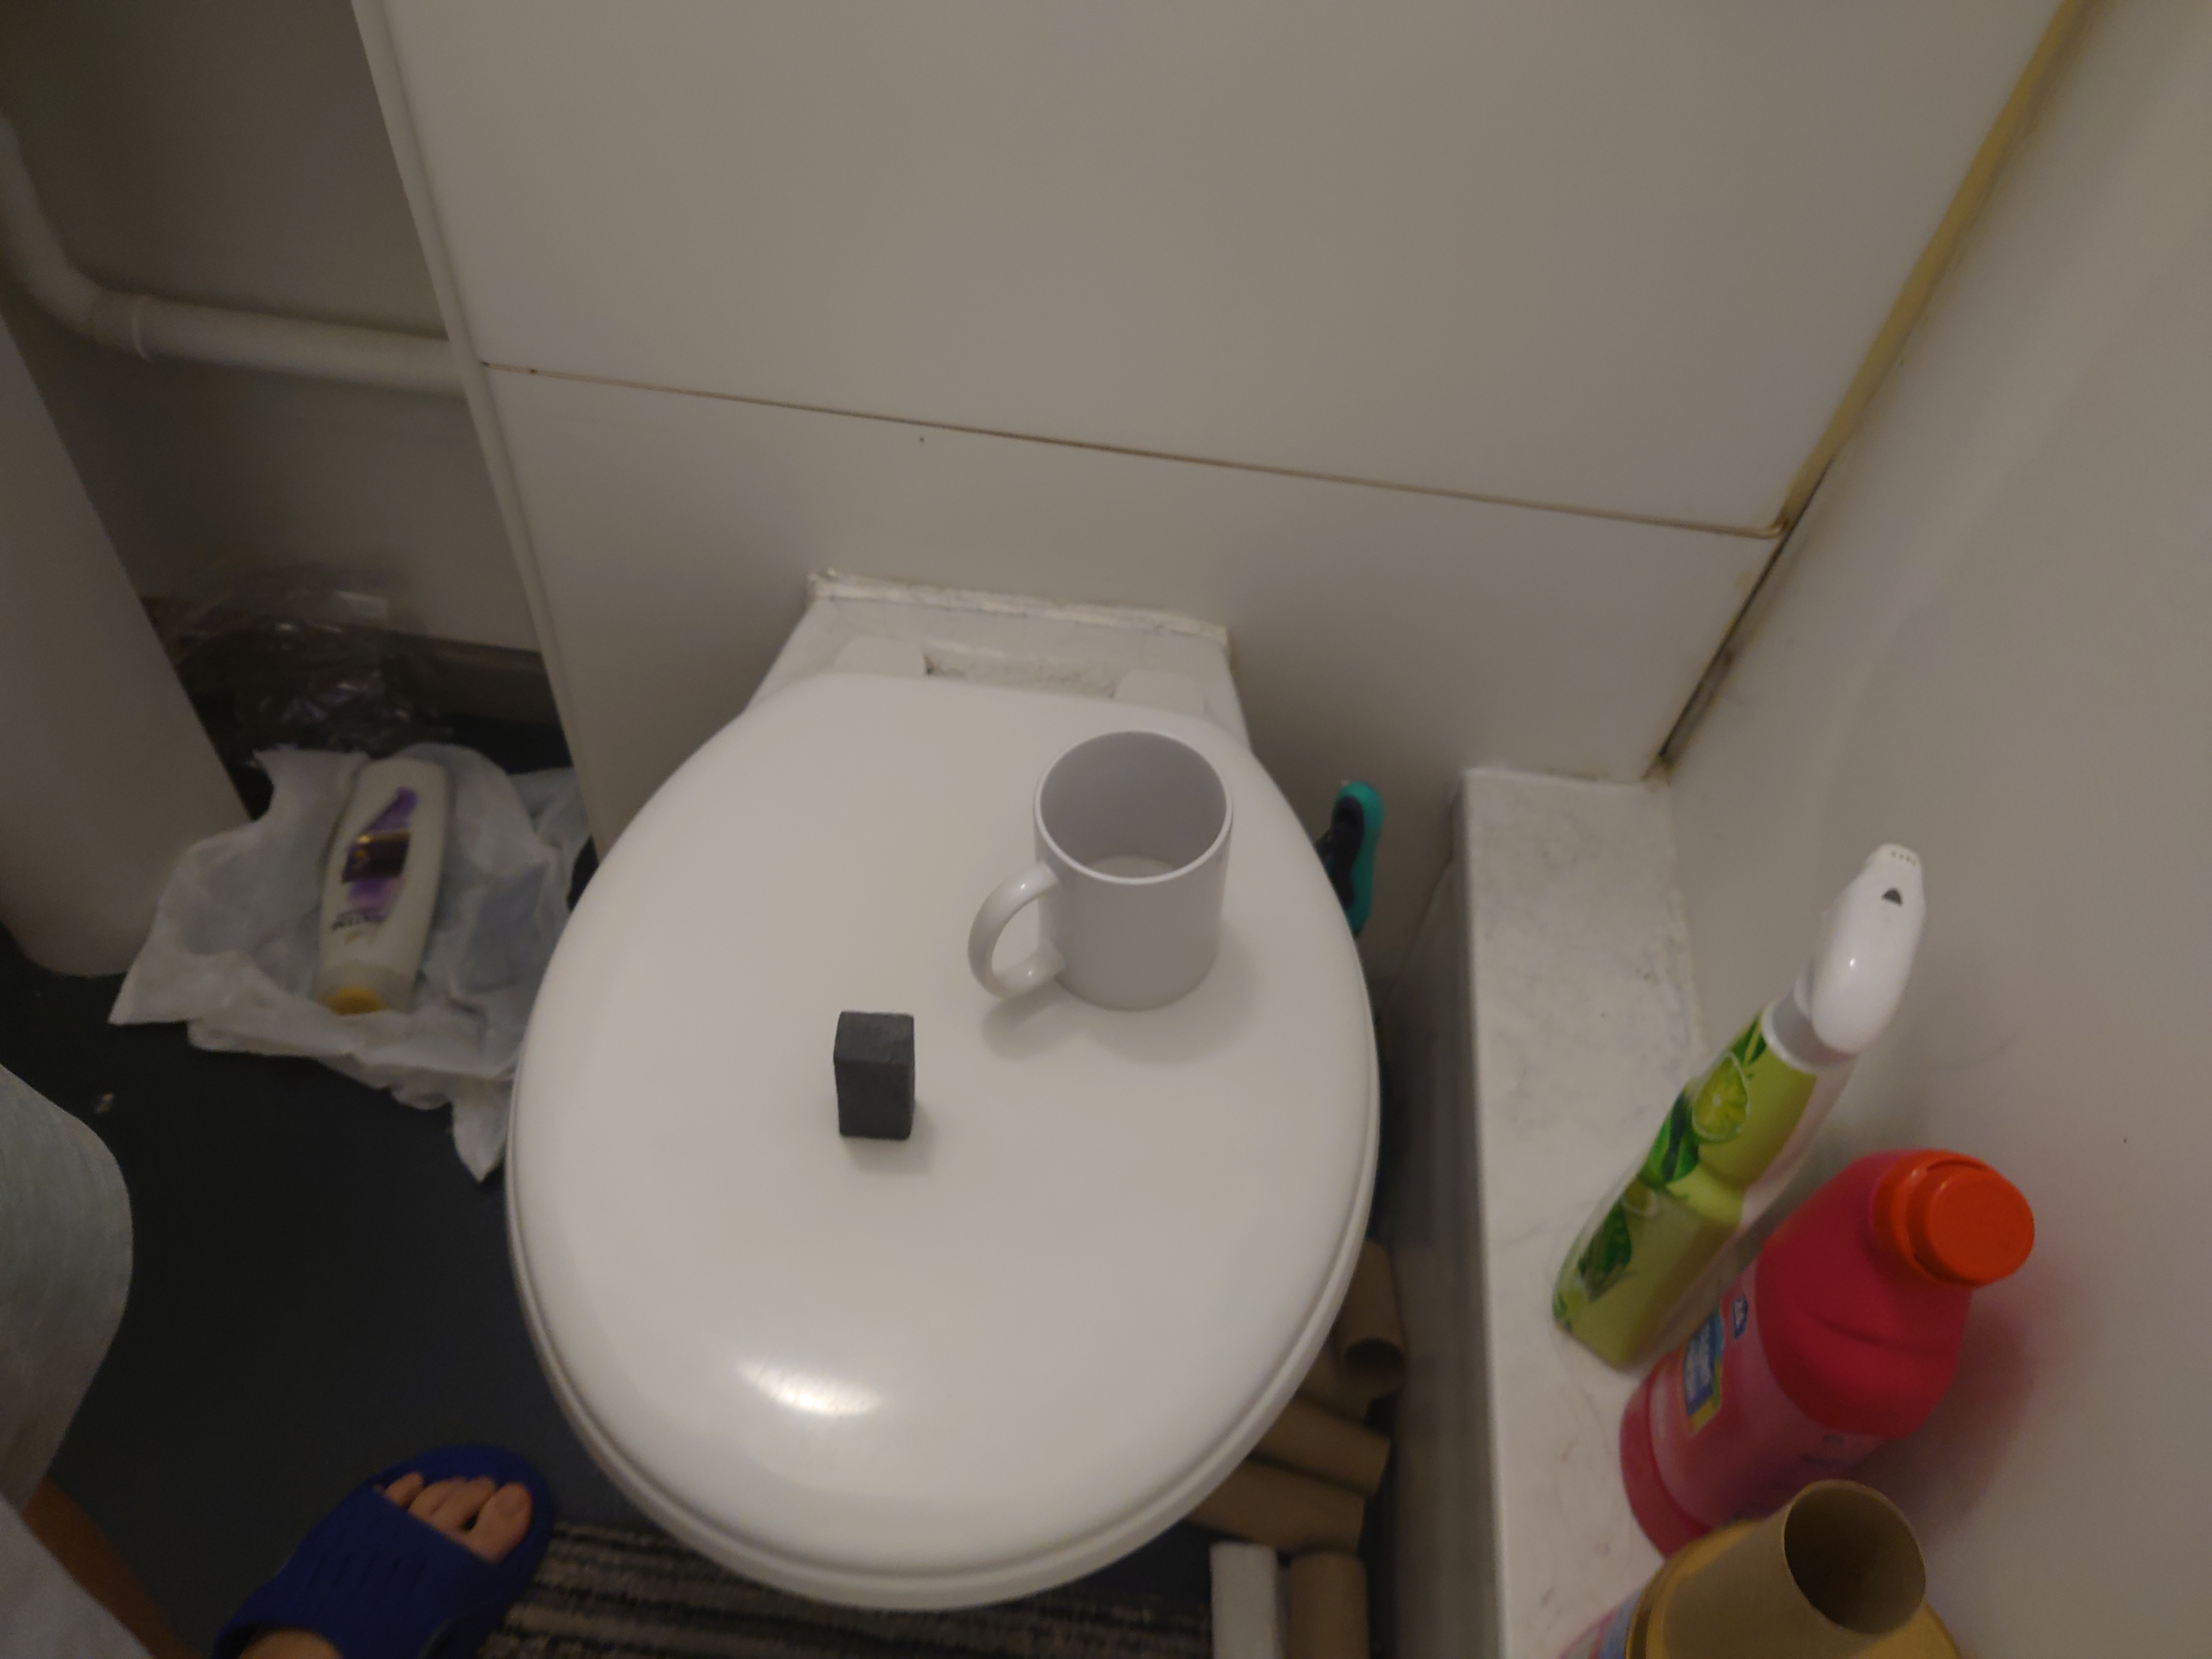cup: (961, 720, 1242, 1035)
target: (833, 1007, 916, 1141)
